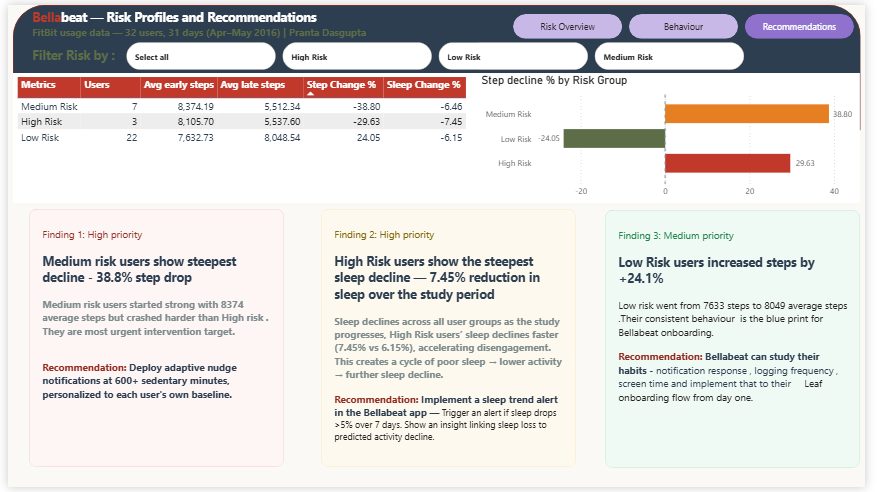

The page's visual inventory and layout, read from the dashboard file:
{"tool":"powerbi","page":{"name":"Recommendations  \t","canvas":[1280,720],"ordinal":2},"visuals":[{"type":"shape","box":[7.9,0,1265.1,187.3],"z":0},{"type":"shape","box":[466.7,304.5,380.6,385],"z":0,"group":"g1"},{"type":"shape","box":[31.8,305.1,380.6,385],"z":0,"group":"g3"},{"type":"shape","box":[891,306,380.6,385],"z":0,"group":"g2"},{"type":"textbox","box":[31.3,0,670.1,56.7],"z":1000},{"type":"textbox","box":[481.6,327.2,352.2,338],"z":1000,"group":"g1"},{"type":"textbox","box":[46.7,327.9,352.2,337.9],"z":1000,"group":"g3"},{"type":"textbox","box":[905.9,328.8,352.2,337.9],"z":1000,"group":"g2"},{"type":"advancedSlicerVisual","fields":{"Values":["Risk_Score_Table_Final.engagement_risk"]},"box":[172.4,51.3,934.2,51.3],"z":2000},{"type":"textbox","box":[31.7,57.1,228.6,52.4],"z":3000},{"type":"tableEx","fields":{"Values":["Key Findings.Metrics","Key Findings.Users ","Key Findings.Avg early steps","Key Findings.Avg late steps","Key Findings.Step Change %","Key Findings.Sleep Change %"]},"box":[7.5,101.5,695.5,194],"z":4000},{"type":"clusteredBarChart","title":" Step decline % by Risk Group ","fields":{"Y":["Avg(Risk_Score_Table_Final.step_decline_pct)"],"Category":["Risk_Score_Table_Final.engagement_risk"]},"box":[701.5,101.5,570.1,194],"z":5000},{"type":"group","id":"g1","title":"Group 1","box":[466.7,304.5,380.6,385],"z":6000},{"type":"group","id":"g2","title":"Group 2","box":[891,306,380.6,385],"z":7000},{"type":"group","id":"g3","title":"Group 3","box":[31.8,305.1,380.2,386],"z":8000},{"type":"pageNavigator","box":[753.3,13,511.8,37.6],"z":9000}]}

Visuals, with their boxes in screenshot pixels (x1, y1, x2, y2), scaled from the page's 1280x720 canvas onto the 877x492 screenshot:
shape: [5, 0, 872, 128]
shape: [320, 208, 581, 471]
shape: [22, 208, 283, 472]
shape: [610, 209, 871, 472]
textbox: [21, 0, 481, 39]
textbox: [330, 224, 571, 455]
textbox: [32, 224, 273, 455]
textbox: [621, 225, 862, 456]
advancedSlicerVisual - Risk_Score_Table_Final.engagement_risk: [118, 35, 758, 70]
textbox: [22, 39, 178, 75]
tableEx - Key Findings.Metrics x Key Findings.Users : [5, 69, 482, 202]
" Step decline % by Risk Group " clusteredBarChart: [481, 69, 871, 202]
"Group 1" group: [320, 208, 581, 471]
"Group 2" group: [610, 209, 871, 472]
"Group 3" group: [22, 208, 282, 472]
pageNavigator: [516, 9, 867, 35]
